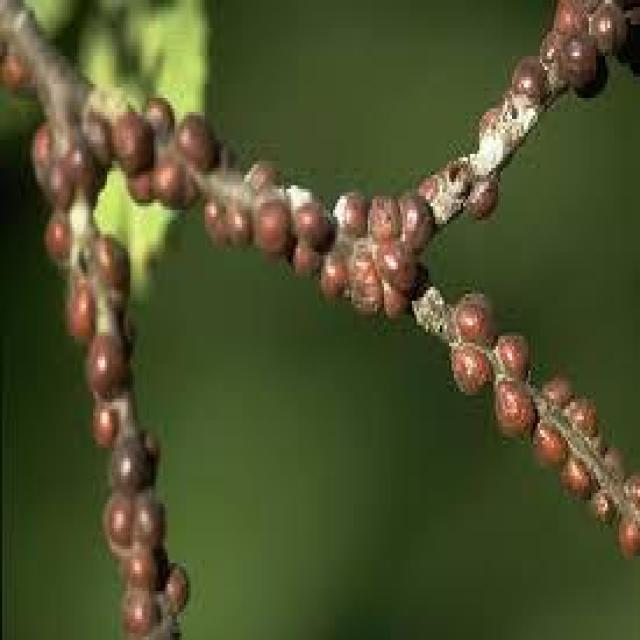Black Scale: (44, 212, 191, 637), (445, 294, 638, 556), (245, 153, 431, 315), (114, 93, 221, 213), (511, 0, 629, 105), (463, 171, 498, 220)
